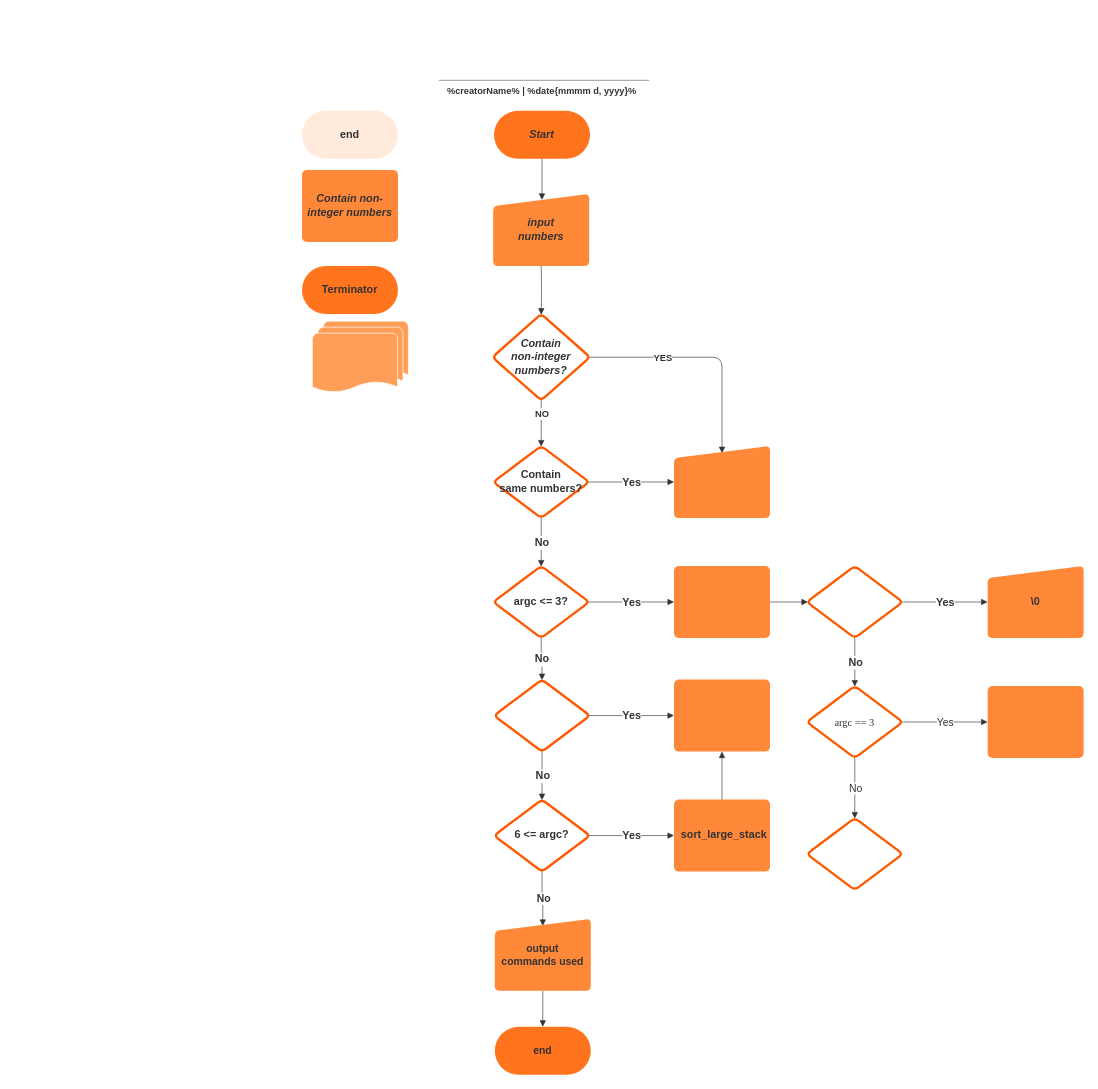
This 1098x1089 diagram has some shape labels left out. The centre of each missing label's shape, as x and y in pixels:
"3 < argc < 6?" goes at point 541,715.
"argc <= 2?" goes at point 854,601.
"argc == 4" goes at point 854,853.
"Error\n" goes at point 721,481.
"push swap" goes at point 541,69.
"sort_3_stack" goes at point 721,601.
"sort_small_stack" goes at point 721,715.
"swap" goes at point 1035,721.
